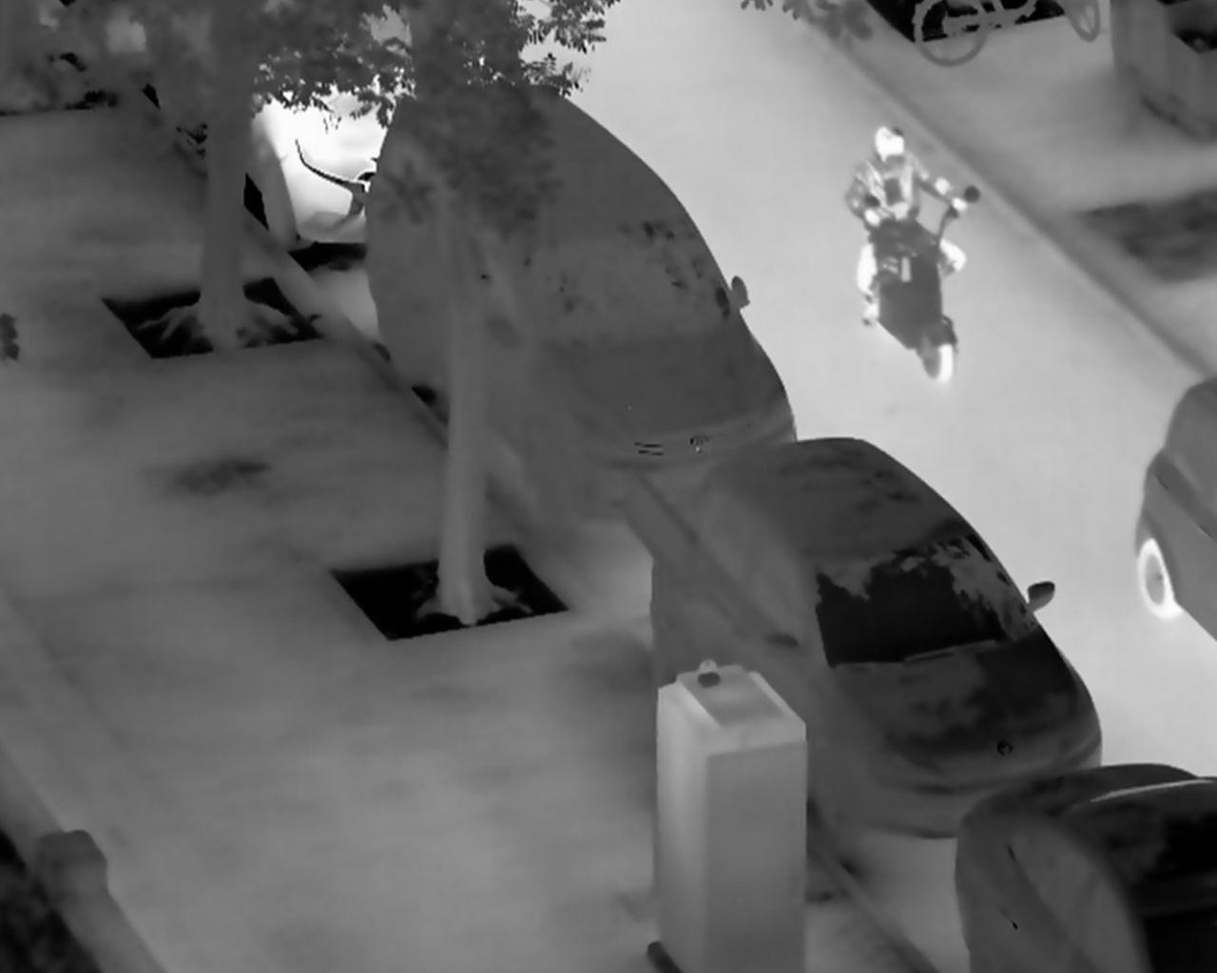person: (842, 124, 967, 327)
